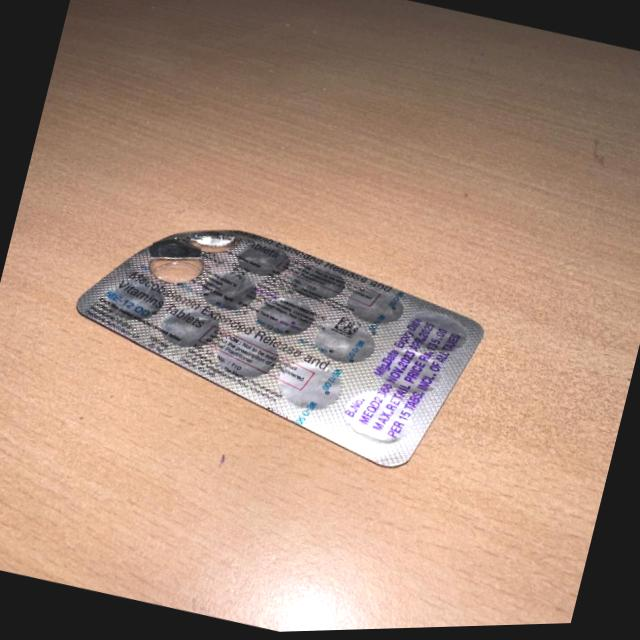medicine: (45, 187, 523, 490)
